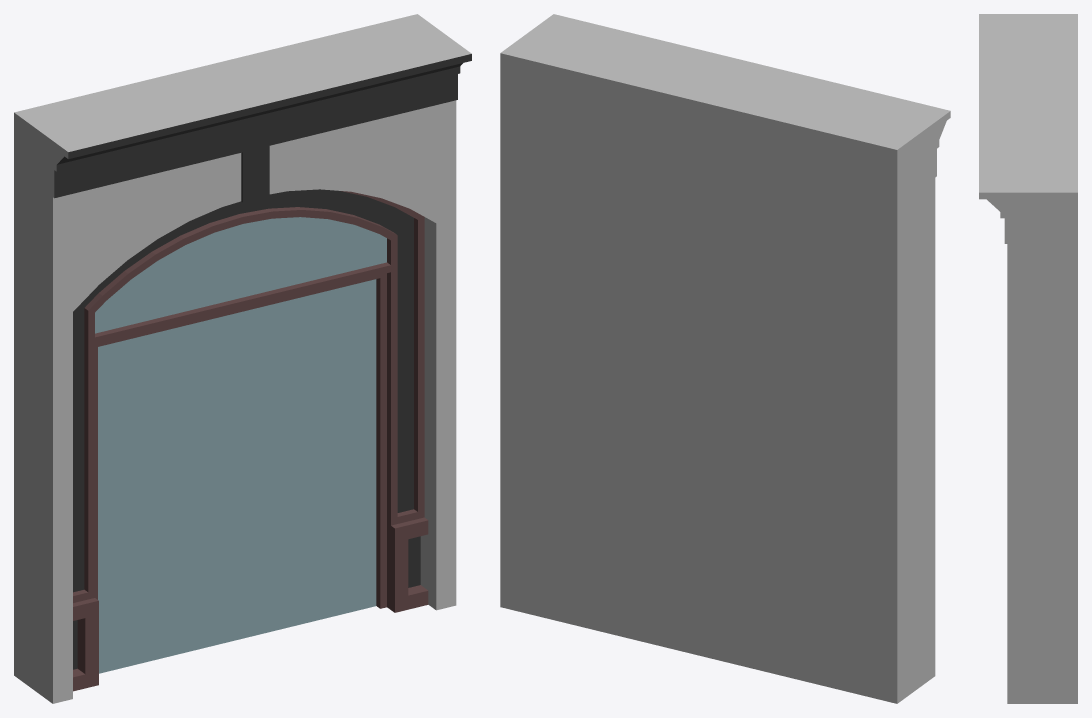
The model's file is FloorTile2.fbx.
3 renders of one model, left to right at view 1: azimuth 30°, elevation 25°; view 2: azimuth 150°, elevation 25°; view 3: azimuth 270°, elevation 25°, orthographic. The views are drawn at different scales.
Parts seen in each view (by area): view 1: Tile3; view 2: Tile3; view 3: Tile3.
Part boxes in pixels (x1,y1,x2,y2): Tile3: (14,14,471,703); Tile3: (500,14,950,703); Tile3: (979,14,1077,703).
Size of the model in its own units: 3 by 4 by 0.7.
